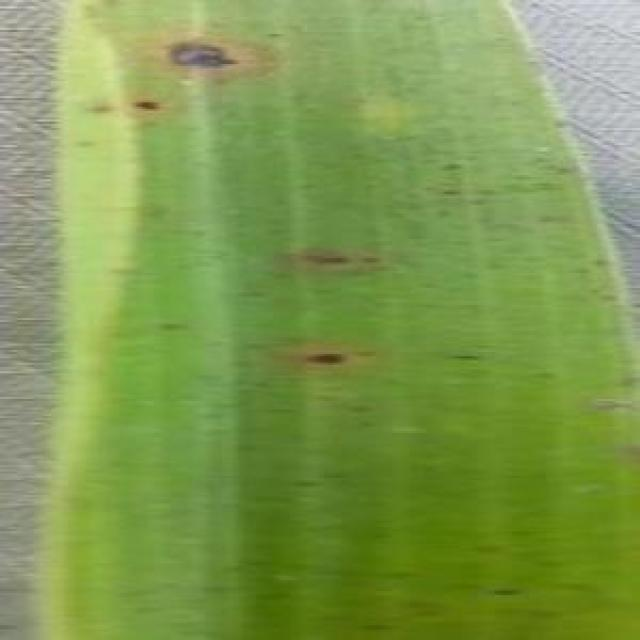Brown_Spot: (154, 34, 240, 84), (281, 243, 370, 276), (301, 349, 354, 373), (134, 98, 174, 116)
